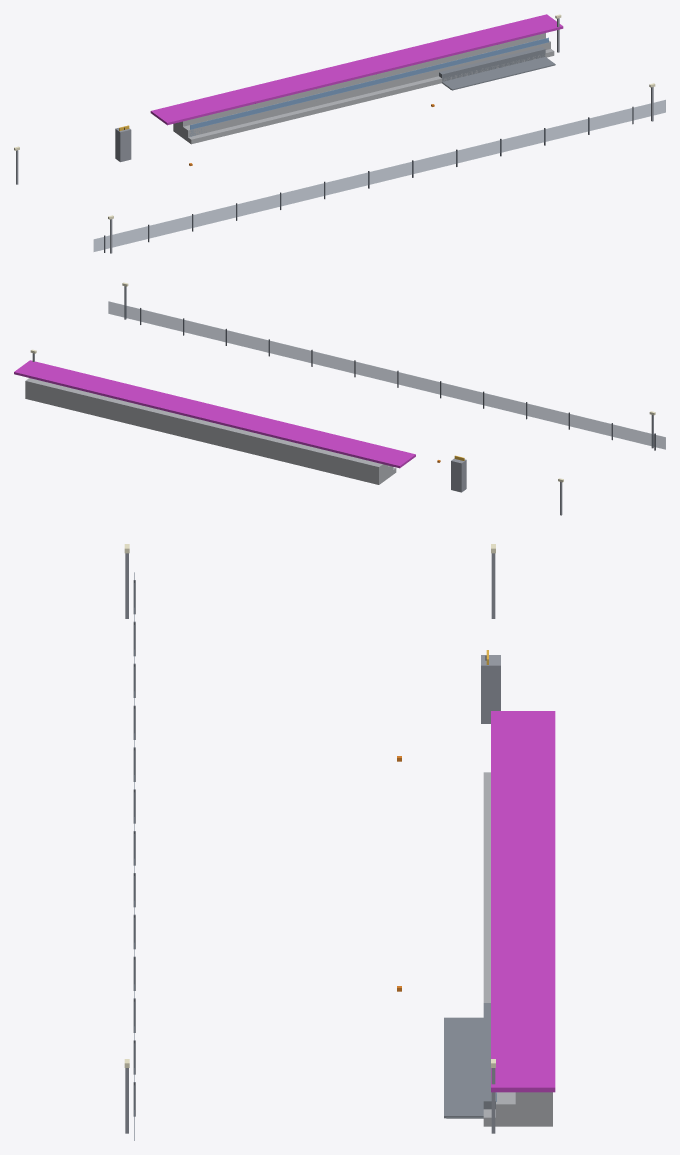
The model's file is venue_24.obj.
3 renders of one model, top to bottom at view 1: azimuth 30°, elevation 25°; view 2: azimuth 150°, elevation 25°; view 3: azimuth 270°, elevation 25°, orthographic. The views are drawn at different scales.
Bounding box in the file's own units: 520 × 32 × 174.
